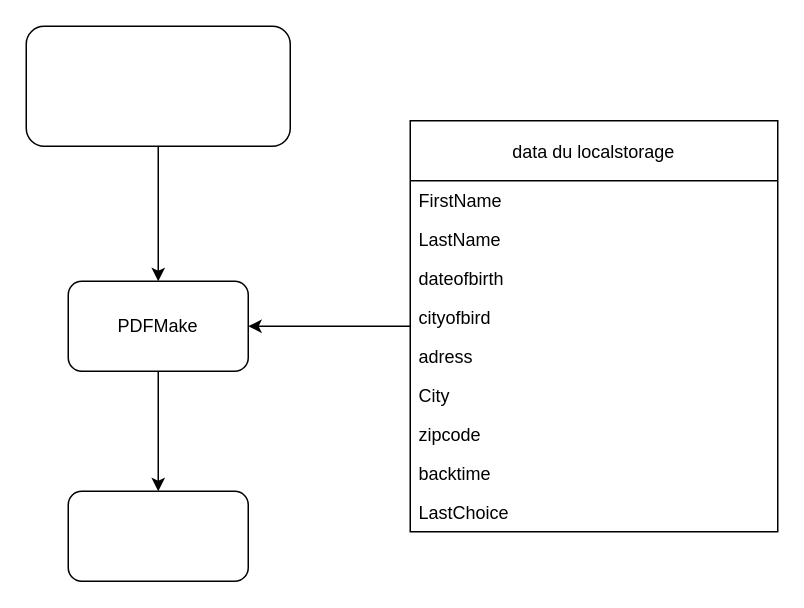
The diagram is 804 pixels wide and 608 high, and some of its shapes have lost their labels. Here are the shapes that lost their labels. From the top down, the centre of each, then its label:
At [157,85]: "Attestation if pdfmaker ok".
At [157,535]: "PDF".
